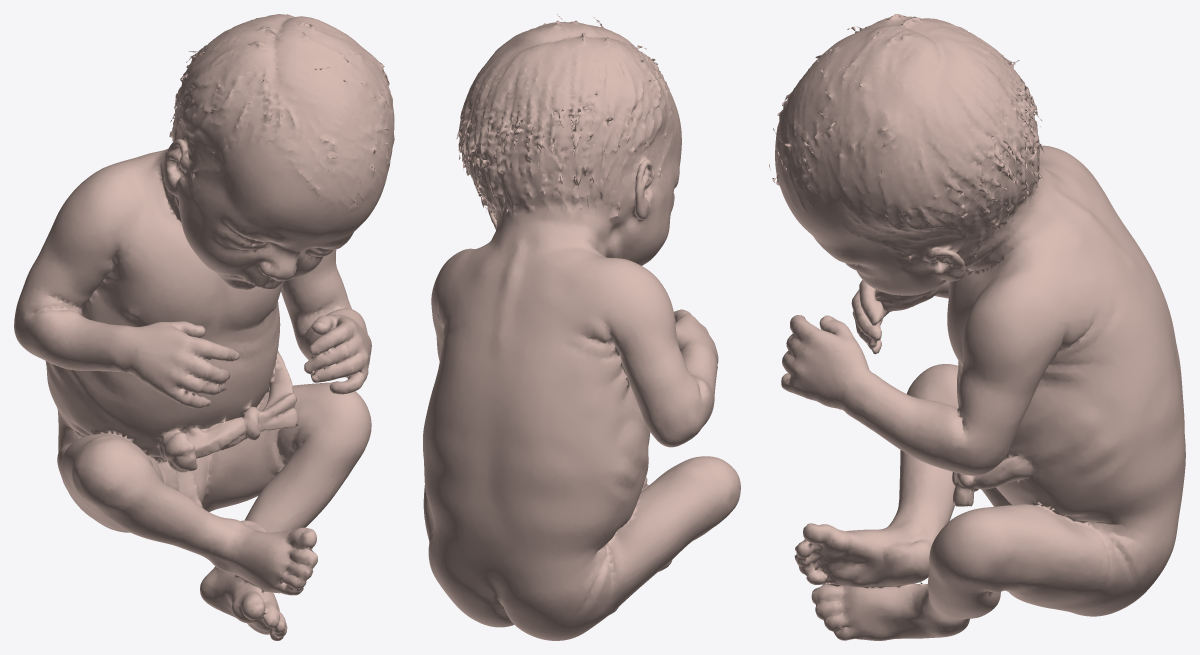
Rendered from semaine-22.glb.
3 views of the same model, side by side, from view 1: azimuth 30°, elevation 25°; view 2: azimuth 150°, elevation 25°; view 3: azimuth 270°, elevation 25° (orthographic). The views are drawn at different scales.
Bounding box in the file's own units: 1.12 × 2 × 1.19.
